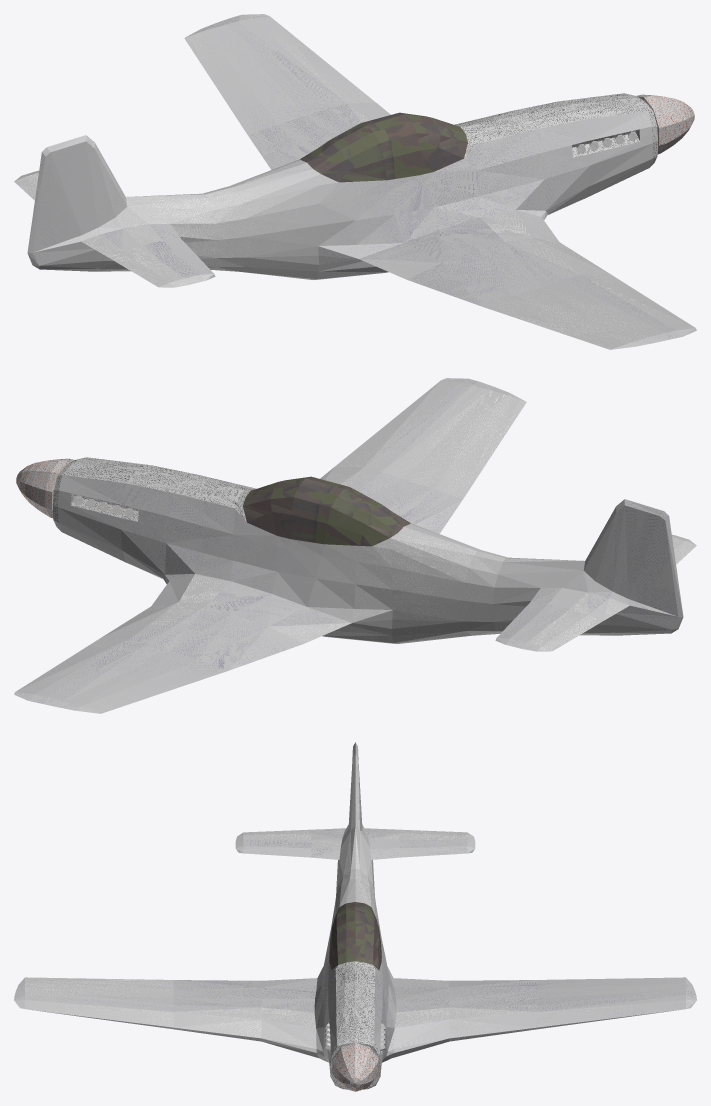
3 renders of one model, top to bottom at view 1: azimuth 30°, elevation 25°; view 2: azimuth 150°, elevation 25°; view 3: azimuth 270°, elevation 25°, orthographic. The views are drawn at different scales.
Parts seen in each view (by area): view 1: mesh1_mesh1-geometry, mesh4_mesh4-geometry; view 2: mesh1_mesh1-geometry, mesh4_mesh4-geometry; view 3: mesh1_mesh1-geometry, mesh4_mesh4-geometry.
Part boxes in pixels (<box>): mesh1_mesh1-geometry: <box>14,14,696,349</box>; mesh4_mesh4-geometry: <box>636,94,694,154</box>; mesh1_mesh1-geometry: <box>14,378,696,713</box>; mesh4_mesh4-geometry: <box>16,458,74,518</box>; mesh1_mesh1-geometry: <box>14,742,696,1089</box>; mesh4_mesh4-geometry: <box>332,1043,378,1091</box>.
Size of the model in its own units: 0.6458 by 0.1893 by 0.7397.
